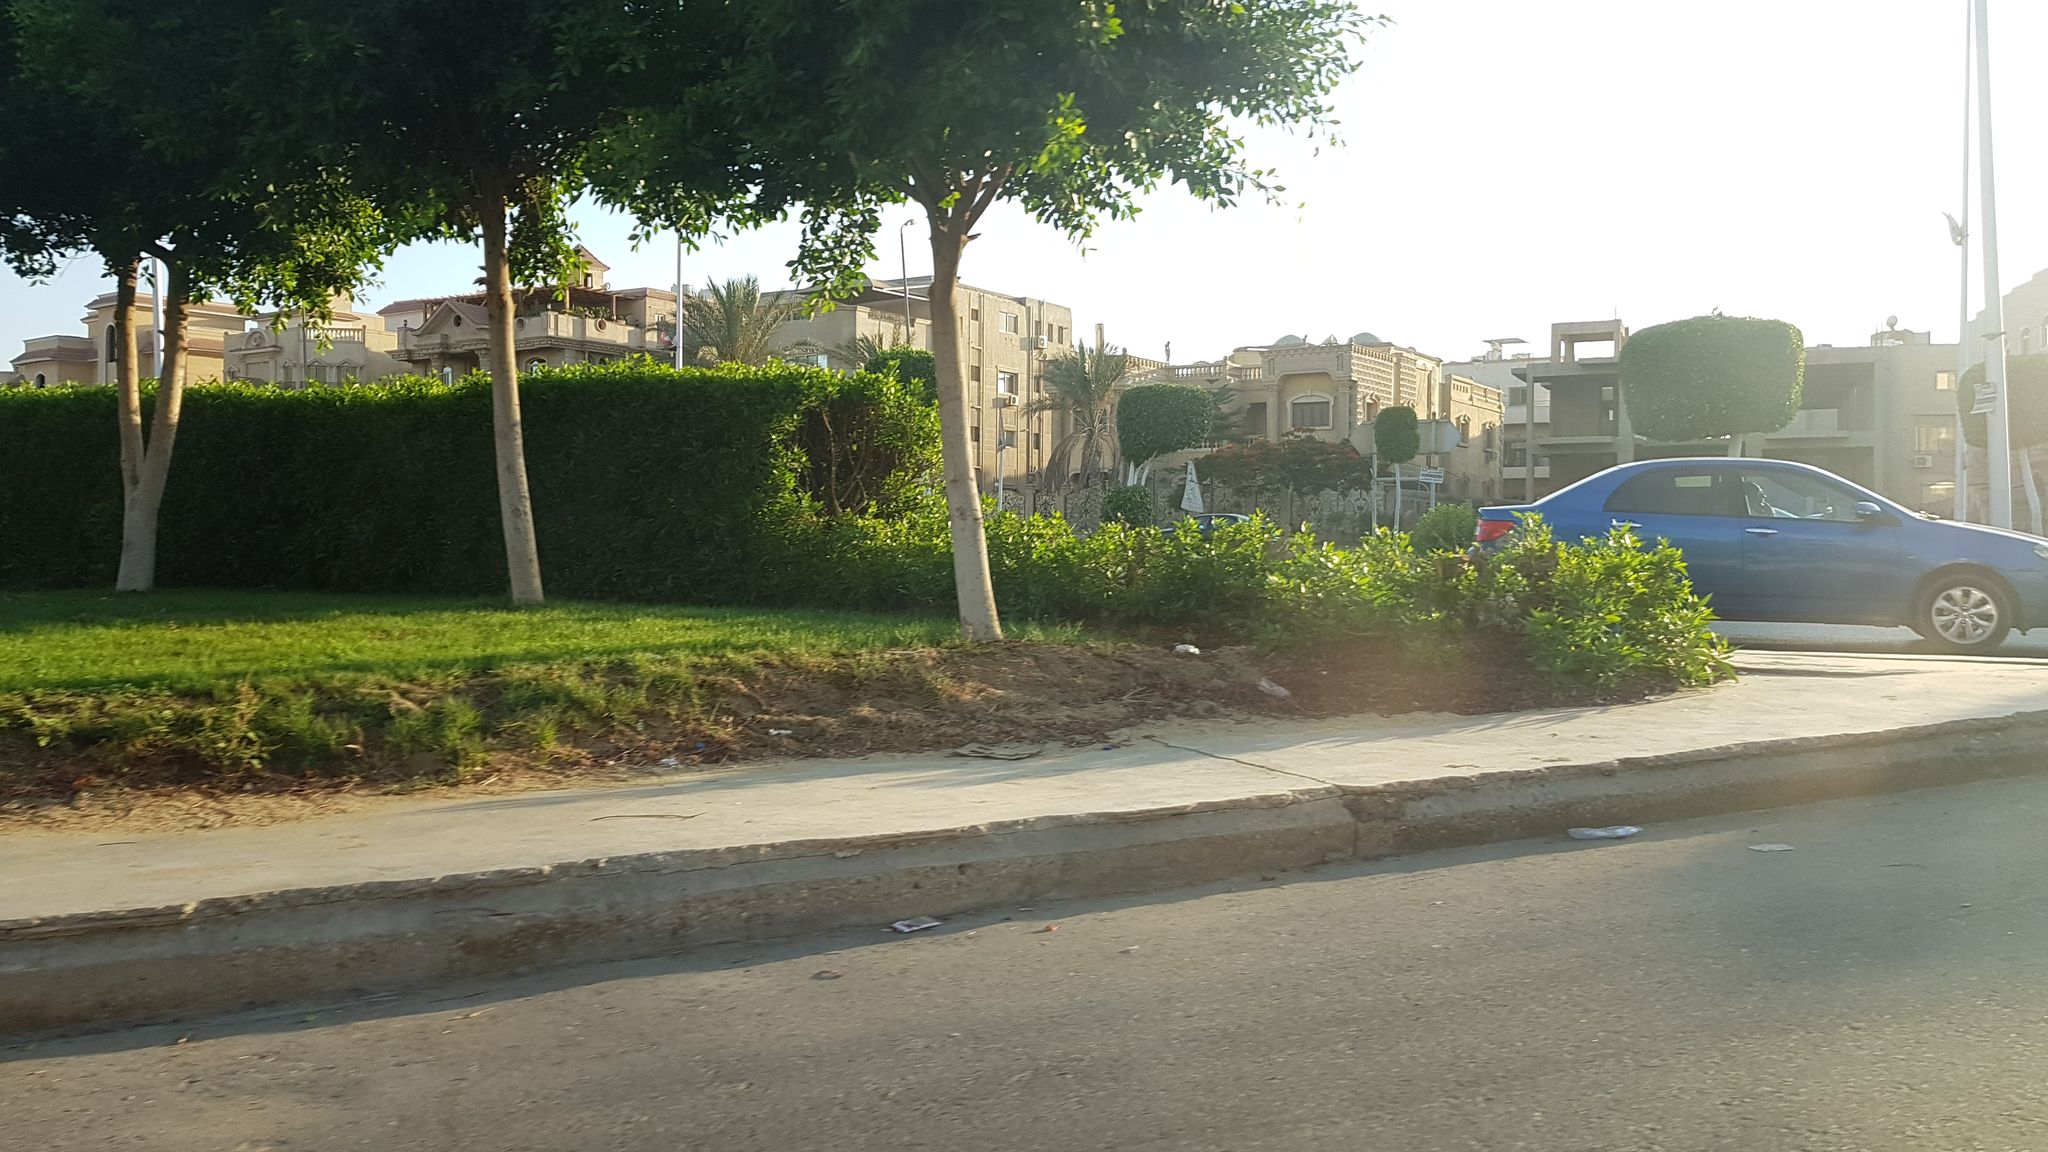car: (1470, 454, 2047, 651), (1156, 512, 1273, 544)
